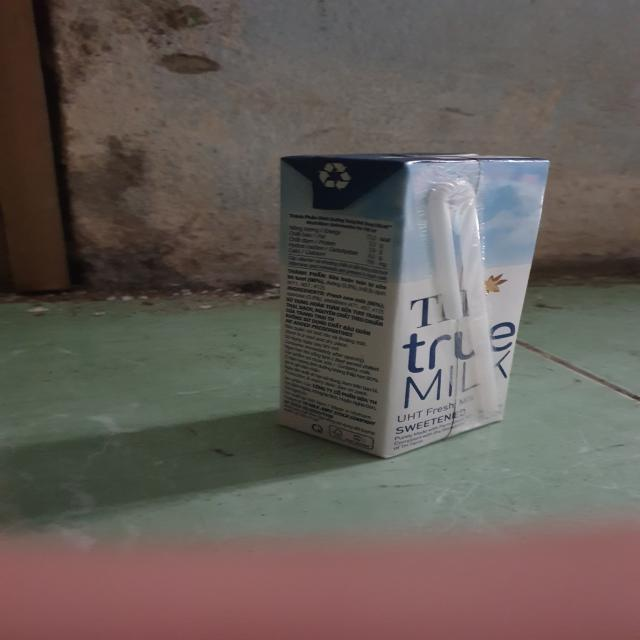TH: (278, 147, 548, 461)
